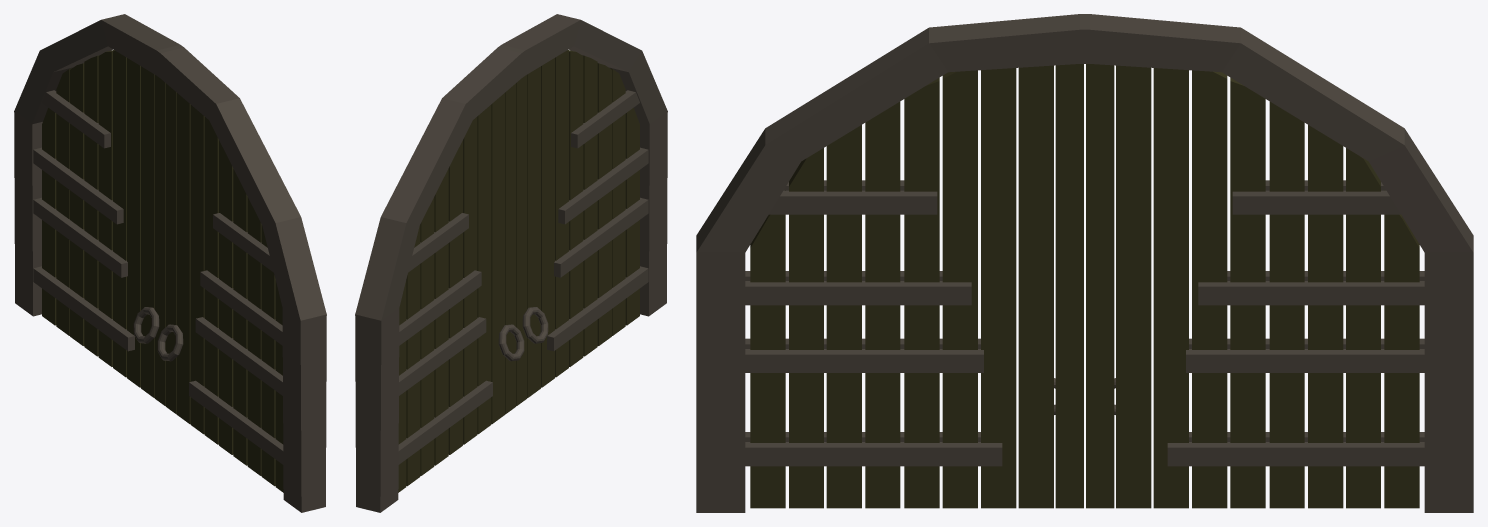
The model's file is gates.fbx.
The picture shows the model from 3 angles, left to right: view 1: azimuth 30°, elevation 25°; view 2: azimuth 150°, elevation 25°; view 3: azimuth 270°, elevation 25°; orthographic projection. The views are drawn at different scales.
Parts seen in each view (by area): view 1: Cube.127, Cube.139, Cube.125, Torus, Torus.001; view 2: Cube.139, Cube.127, Cube.125, Torus.001, Torus; view 3: Cube.127, Cube.139, Cube.125.
Boxes of the visible parts, left/top/right/bottom form: Cube.127: left=33, top=50, right=165, bottom=405; Cube.139: left=165, top=83, right=283, bottom=492; Cube.125: left=14, top=14, right=326, bottom=512; Torus: left=157, top=324, right=183, bottom=361; Torus.001: left=133, top=307, right=159, bottom=343; Cube.139: left=516, top=50, right=648, bottom=405; Cube.127: left=398, top=83, right=516, bottom=492; Cube.125: left=355, top=14, right=667, bottom=512; Torus.001: left=498, top=324, right=524, bottom=361; Torus: left=522, top=307, right=548, bottom=343; Cube.127: left=1086, top=64, right=1424, bottom=508; Cube.139: left=745, top=64, right=1083, bottom=508; Cube.125: left=696, top=14, right=1473, bottom=512.
Bounding box in the file's own units: 68.02 × 684 × 997.
